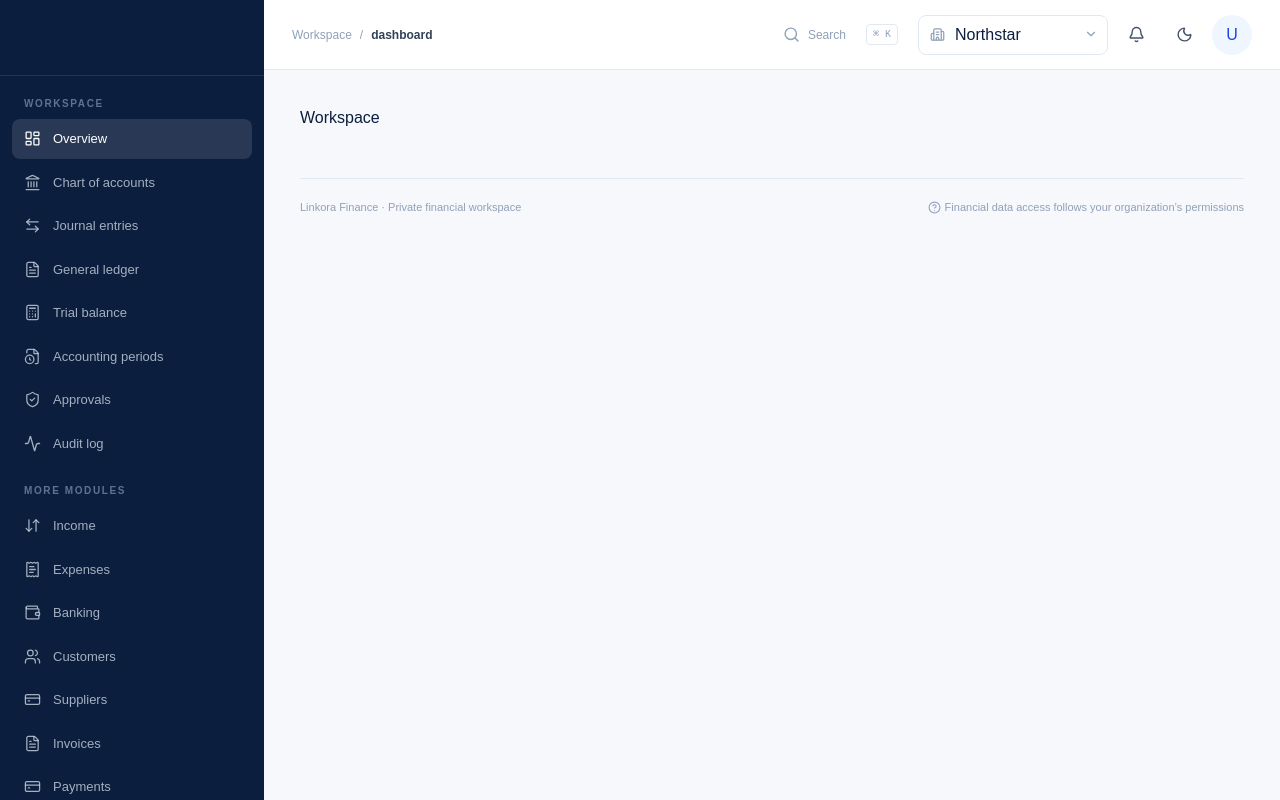
Scenario: workspace shell › restores the selected organization and reports access errors when switching fails
Select "Other workspace" in the dropdown named "Select organization" at (1013, 34), box left=918, top=14, right=1108, bottom=54
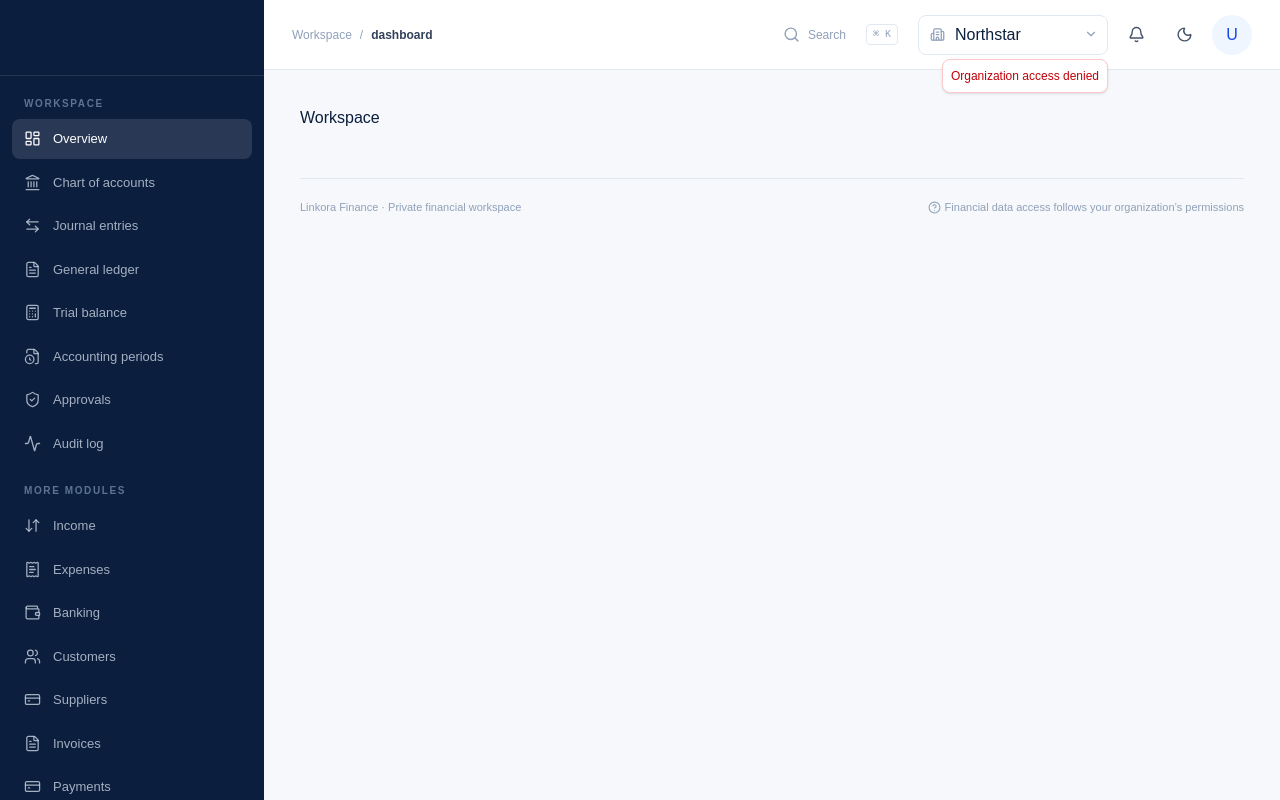
Now the message reads "Organization access denied", box left=951, top=68, right=1099, bottom=82
